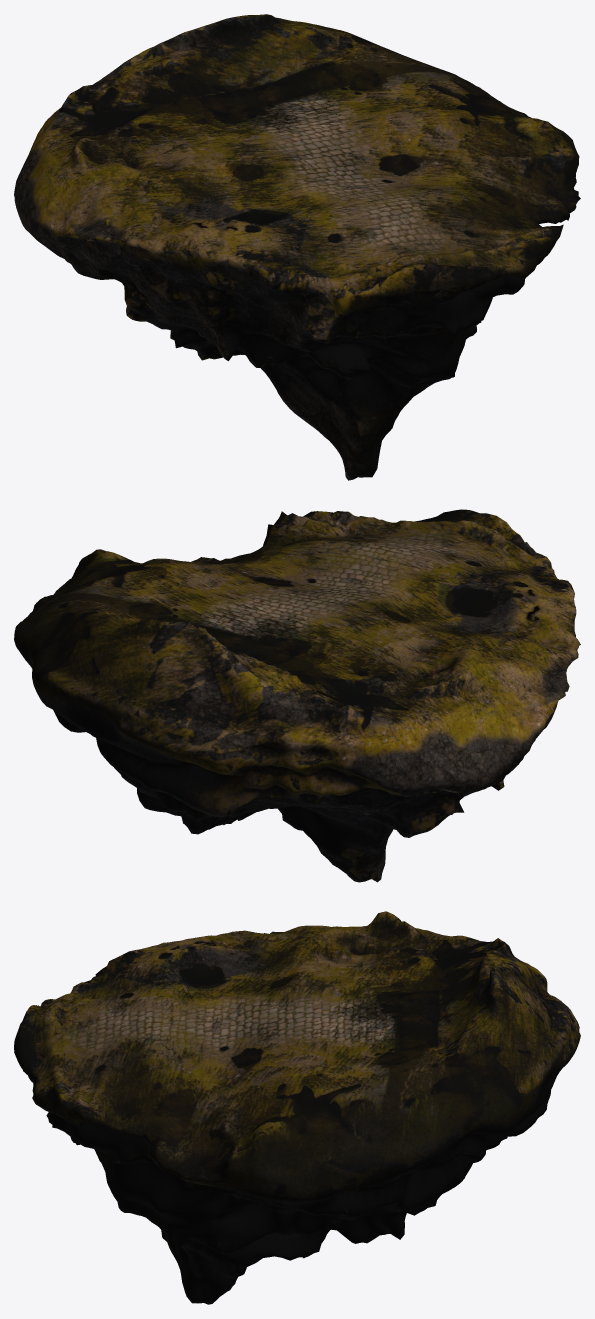
The model's file is floating_island.glb.
The picture shows the model from 3 angles, top to bottom: view 1: azimuth 30°, elevation 25°; view 2: azimuth 150°, elevation 25°; view 3: azimuth 270°, elevation 25°; orthographic projection. The views are drawn at different scales.
Parts seen in each view (by area): view 1: Island; view 2: Island; view 3: Island.
Part boxes in pixels (left/top/right/bottom): Island: left=14, top=14, right=580, bottom=480; Island: left=14, top=509, right=580, bottom=882; Island: left=14, top=911, right=580, bottom=1304.
Size of the model in its own units: 17.2 by 11.89 by 18.01.
Materials: 1 (1 with a texture image).
